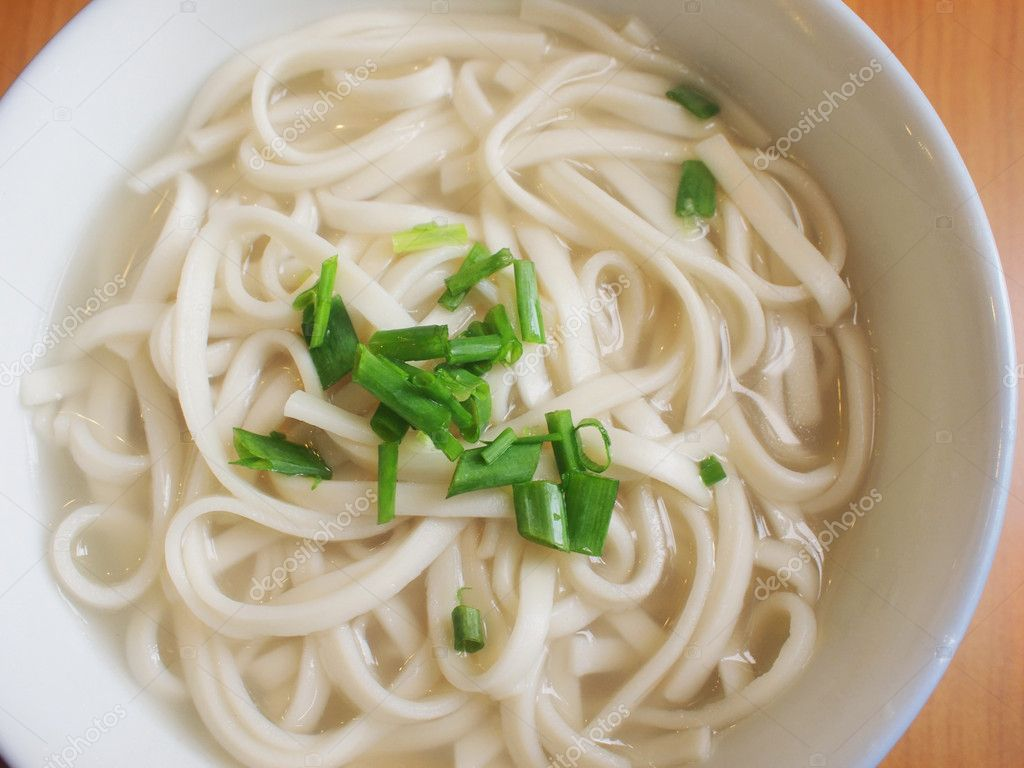plain spaghetti: (163, 117, 752, 743)
